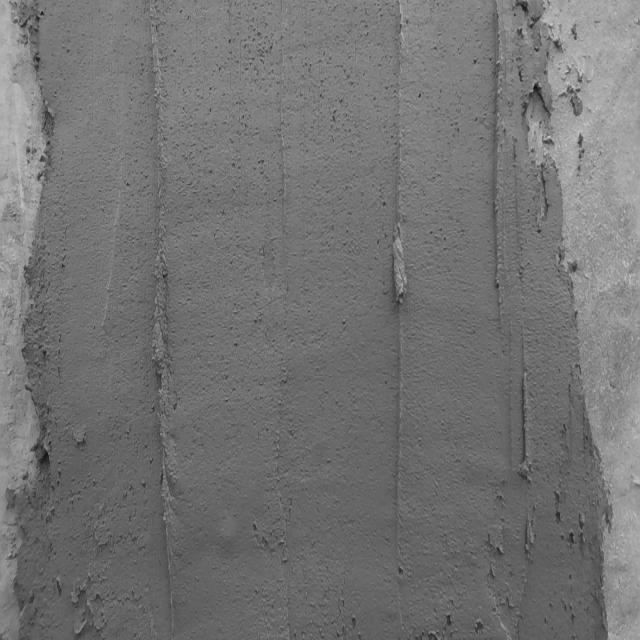trowels marks: (147, 0, 178, 636), (274, 2, 295, 640), (512, 137, 534, 561), (394, 1, 407, 635), (491, 0, 507, 360)
